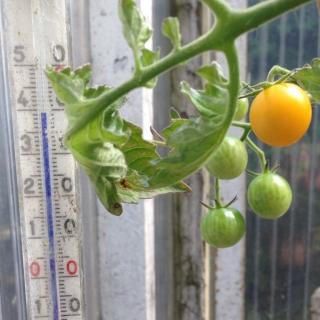tomato: (237, 67, 314, 148), (243, 161, 292, 221), (200, 199, 243, 249), (203, 134, 247, 181), (230, 89, 247, 121)
